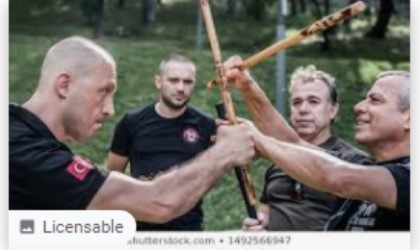baston_e: (190, 2, 245, 118), (254, 8, 335, 72)
baston_v: (342, 0, 376, 24), (242, 178, 261, 209)
